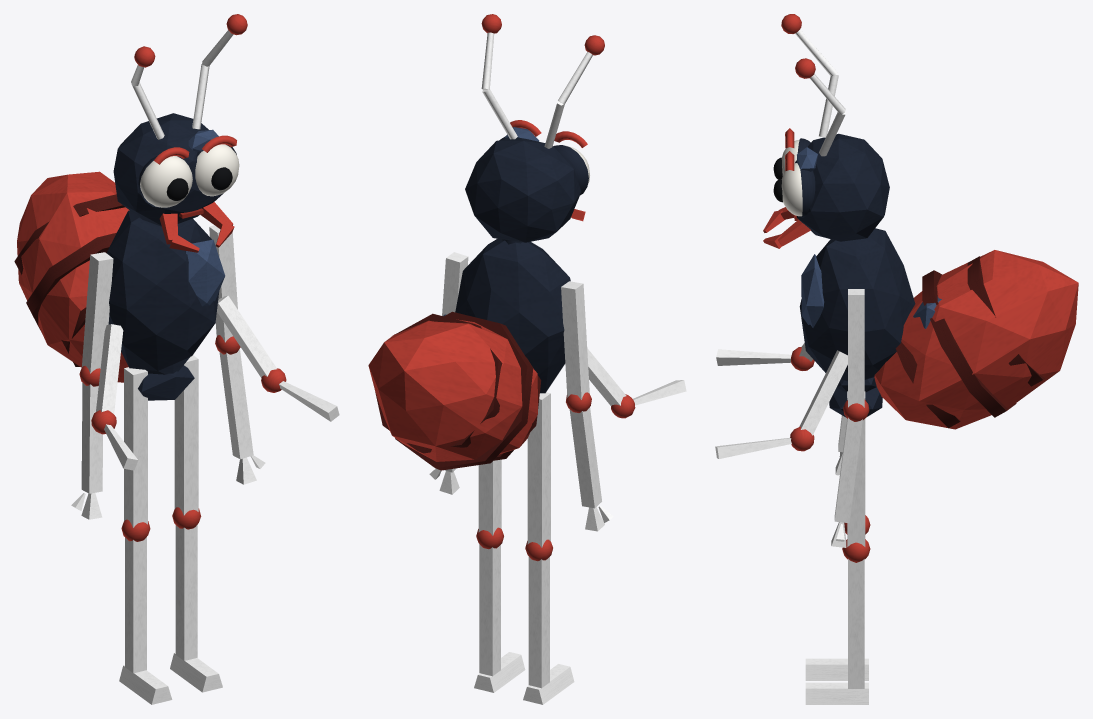
Rendered from ant.glb.
3 renders of one model, left to right at view 1: azimuth 30°, elevation 25°; view 2: azimuth 150°, elevation 25°; view 3: azimuth 270°, elevation 25°, orthographic. The views are drawn at different scales.
Parts seen in each view (by area): view 1: torso, abdomen, head, kneeL, kneeR, hipR, hipL, shoulderR, elbowL, elbowR, shoulder2R, shoulder2L (+12 smaller); view 2: abdomen, head, torso, kneeL, kneeR, hipR, shoulderR, elbowR, hipL, shoulderL, footR, footL (+5 smaller); view 3: abdomen, torso, head, kneeL, elbowL, shoulderL, hipL, shoulder2L, footL, elbow2R, elbow2L, footR (+4 smaller).
Part boxes in pixels (x1,y1,x2,y2): torso: (106,210,225,374); abdomen: (14,171,129,382); head: (113,113,239,226); kneeL: (172,507,201,660); kneeR: (121,519,150,673); hipR: (124,367,147,527); hipL: (174,355,198,515); shoulderR: (81,252,113,373); elbowL: (215,335,253,459); elbowR: (79,366,102,493); shoulder2R: (96,324,123,413); shoulder2L: (217,295,276,377); abdomen: (368,311,541,470); head: (465,120,589,242); torso: (455,238,570,393); kneeL: (476,527,503,676); kneeR: (525,539,552,688); hipR: (527,392,550,547); shoulderR: (561,281,589,399); elbowR: (566,392,601,508); hipL: (478,459,501,535); shoulderL: (442,252,468,315); footR: (523,664,574,704); footL: (474,652,525,692); abdomen: (874,250,1078,429); torso: (799,228,915,392); head: (773,128,889,241); kneeL: (842,539,870,688); elbowL: (834,399,869,523); shoulderL: (848,289,864,407); hipL: (847,391,865,546); shoulder2L: (799,350,847,435); footL: (805,682,868,704); elbow2R: (716,347,814,370); elbow2L: (715,426,814,458); footR: (805,658,868,680).
Bounding box in the file's own units: 0.6121 × 1.81 × 0.9163.
Materials: 24 (21 with a texture image).
